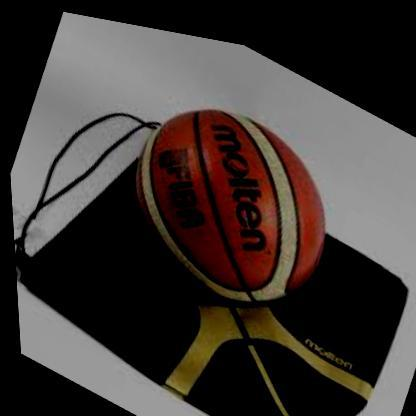basketball: (102, 57, 355, 335)
